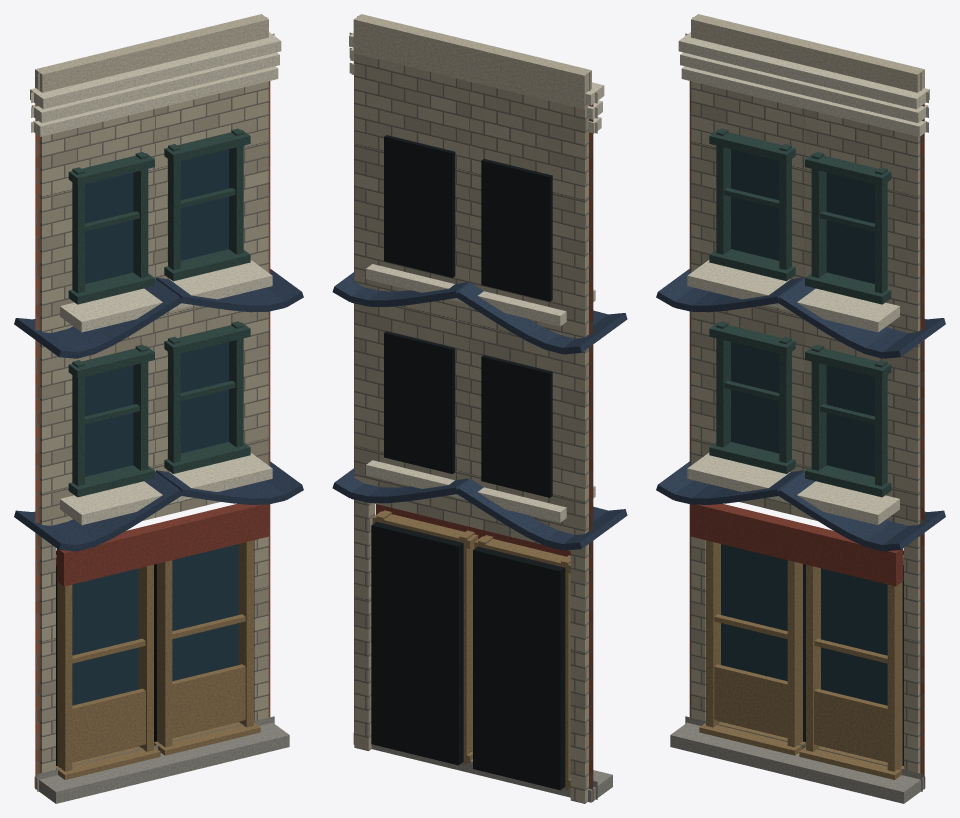
The model's file is CHINA17_lod2.glb.
The picture shows the model from 3 angles, left to right: view 1: azimuth 30°, elevation 25°; view 2: azimuth 150°, elevation 25°; view 3: azimuth 330°, elevation 25°; orthographic projection.
Parts seen in each view (by area): view 1: CHINA17_FRONT_LOD2; view 2: CHINA17_FRONT_LOD2; view 3: CHINA17_FRONT_LOD2.
Boxes of the visible parts, x1,y1,x2,y2 form: CHINA17_FRONT_LOD2: (14, 14, 303, 803); CHINA17_FRONT_LOD2: (332, 14, 627, 803); CHINA17_FRONT_LOD2: (656, 14, 945, 803).
Bounding box in the file's own units: 3.46 × 9.66 × 1.1.
12 materials, 10 textured.
